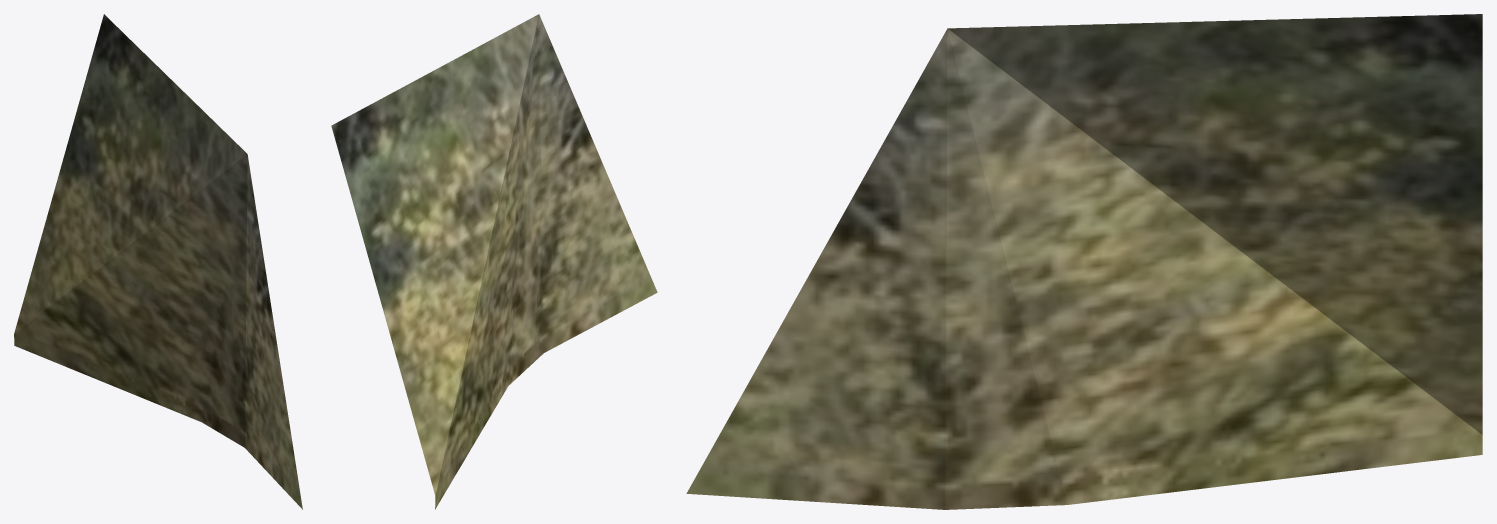
The picture shows the model from 3 angles, left to right: view 1: azimuth 30°, elevation 25°; view 2: azimuth 150°, elevation 25°; view 3: azimuth 270°, elevation 25°; orthographic projection. The views are drawn at different scales.
Size of the model in its own units: 1.52 by 4.99 by 7.02.
1 material, 1 textured.
